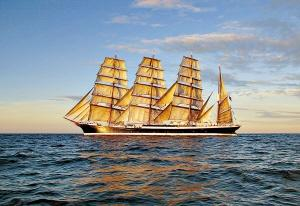fanchuan: (65, 50, 244, 134)
